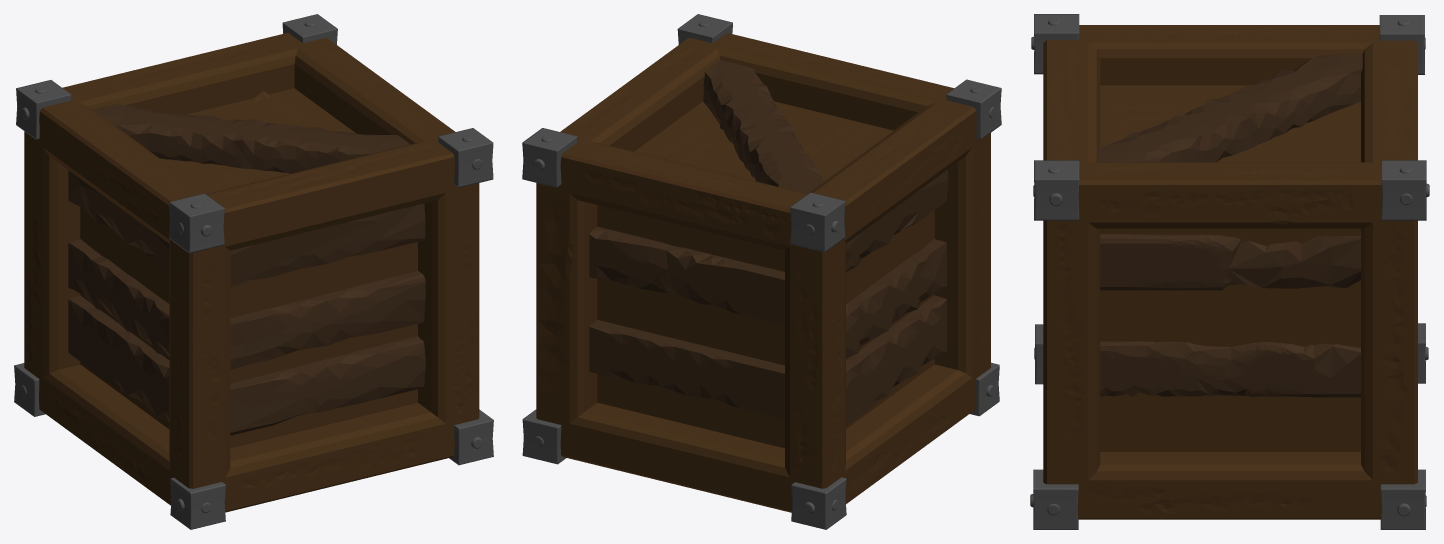
3 views of the same model, side by side, from view 1: azimuth 30°, elevation 25°; view 2: azimuth 150°, elevation 25°; view 3: azimuth 270°, elevation 25° (orthographic). The views are drawn at different scales.
Visible parts, largest first — view 1: BOX, Woods, Corners; view 2: BOX, Woods, Corners; view 3: BOX, Woods, Corners.
Part boxes in pixels (x1,y1,x2,y2): BOX: (24,32,479,512); Woods: (68,103,425,435); Corners: (14,14,493,529); BOX: (536,33,990,512); Woods: (589,60,948,426); Corners: (522,14,1001,529); BOX: (1043,25,1417,519); Woods: (1098,54,1362,397); Corners: (1030,14,1429,529).
Bounding box in the file's own units: 2.11 × 2.09 × 2.13.
